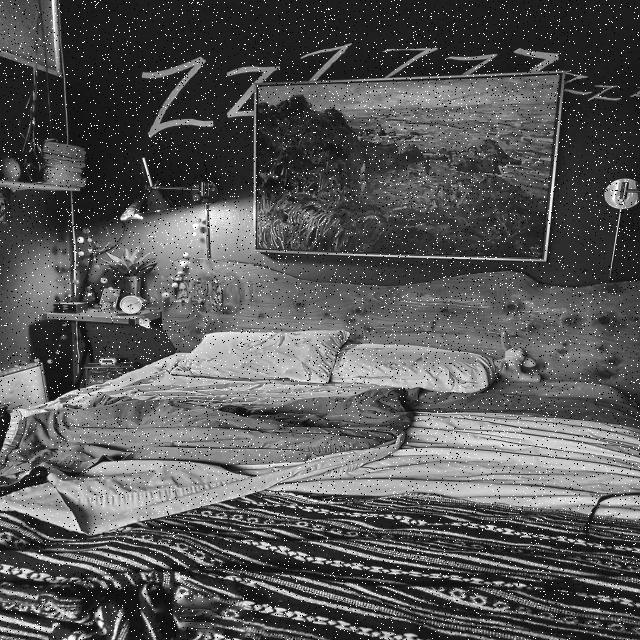bed: (1, 288, 633, 633)
